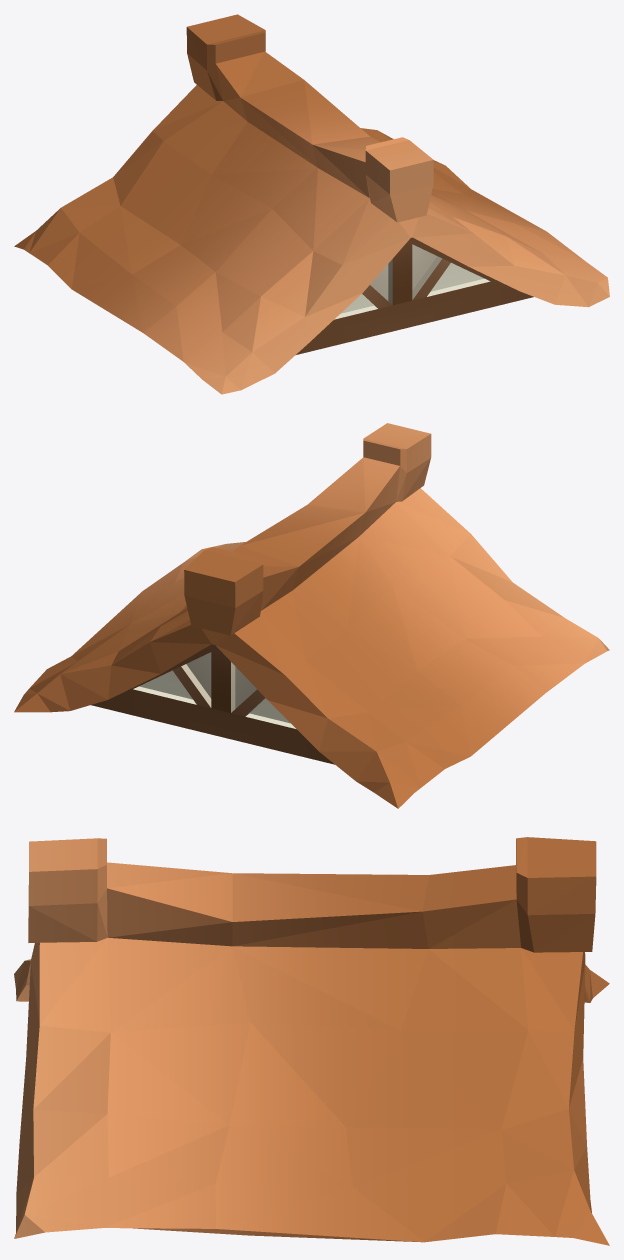
Rendered from House_4x4_RoofFull.fbx.
The picture shows the model from 3 angles, top to bottom: view 1: azimuth 30°, elevation 25°; view 2: azimuth 150°, elevation 25°; view 3: azimuth 270°, elevation 25°; orthographic projection. The views are drawn at different scales.
Visible parts, largest first — view 1: House_4x4_RoofFull; view 2: House_4x4_RoofFull; view 3: House_4x4_RoofFull.
Part boxes in pixels (x1,y1,x2,y2): House_4x4_RoofFull: (14,14,609,394); House_4x4_RoofFull: (14,423,609,808); House_4x4_RoofFull: (14,837,609,1245).
Size of the model in its own units: 5.63 by 2.49 by 5.04.
Materials: 1 (1 with a texture image).
